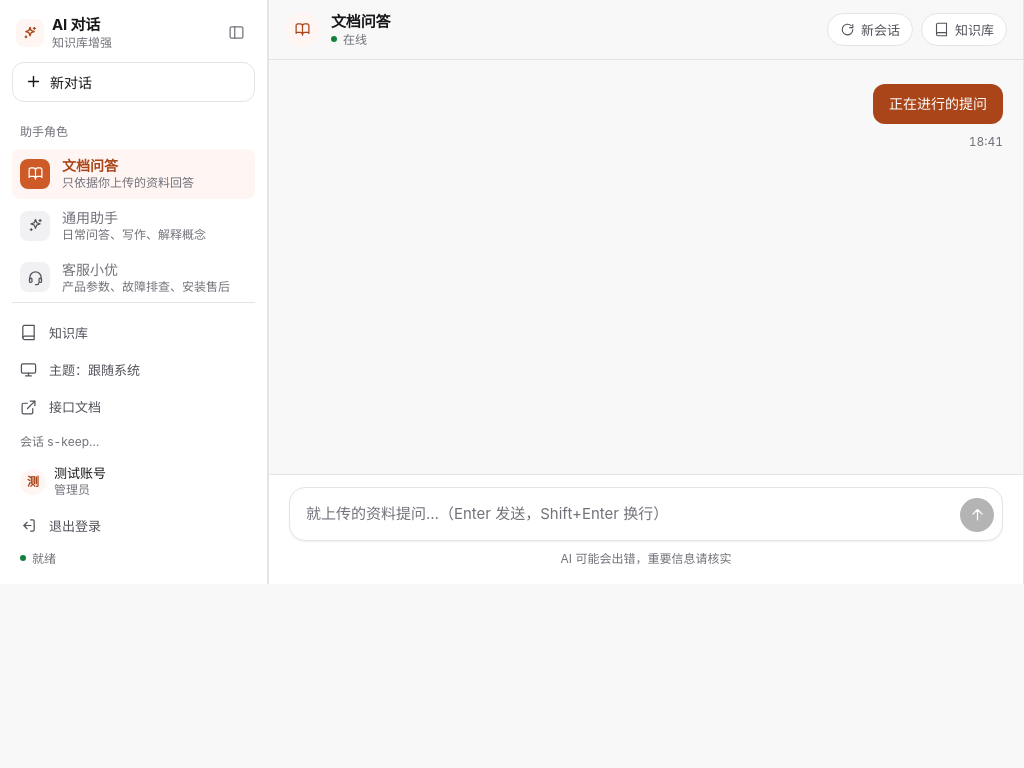
Test case: 应用外壳挂载 › 点未开放的角色：弹一句"功能未开放"，且**不切角色、不重置会话**
Click the button with class "role" showing "客服小优 产品参数、故障排查、安装售后". click: (134, 277)
box: [12, 252, 255, 302]
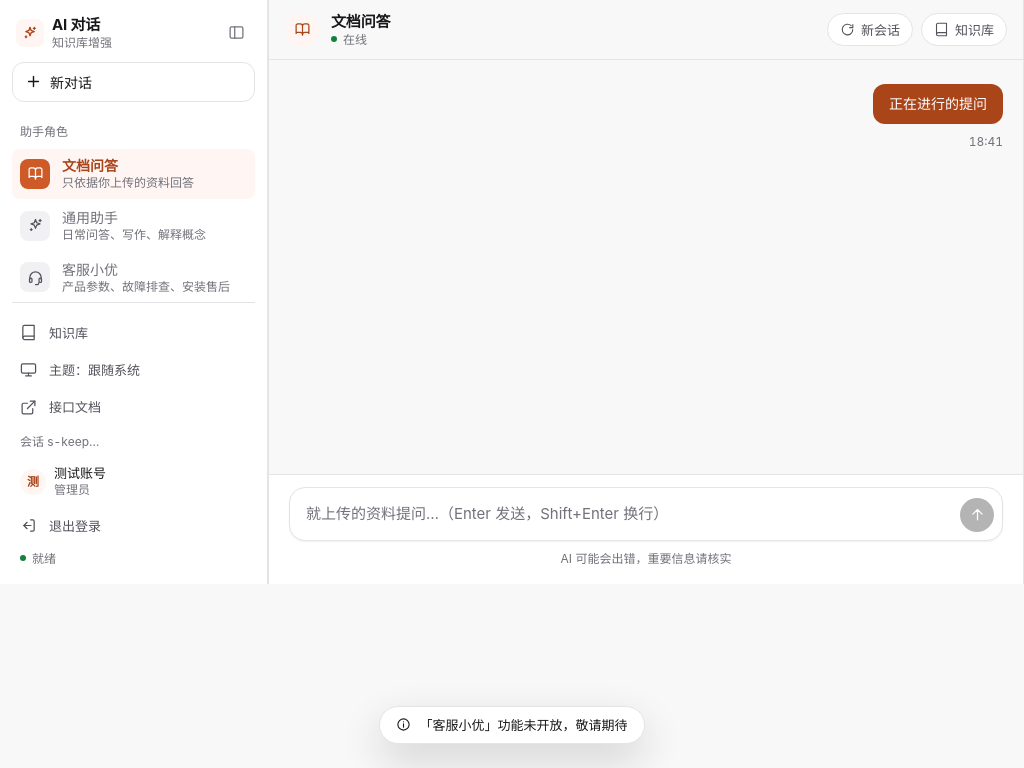
Expected: the element with class "toast" is shown, [380, 706, 644, 744]
Expected: the element with class "toast" shows "客服小优", [420, 717, 628, 733]
Expected: the element with class "toast" shows "功能未开放", [420, 717, 628, 733]
